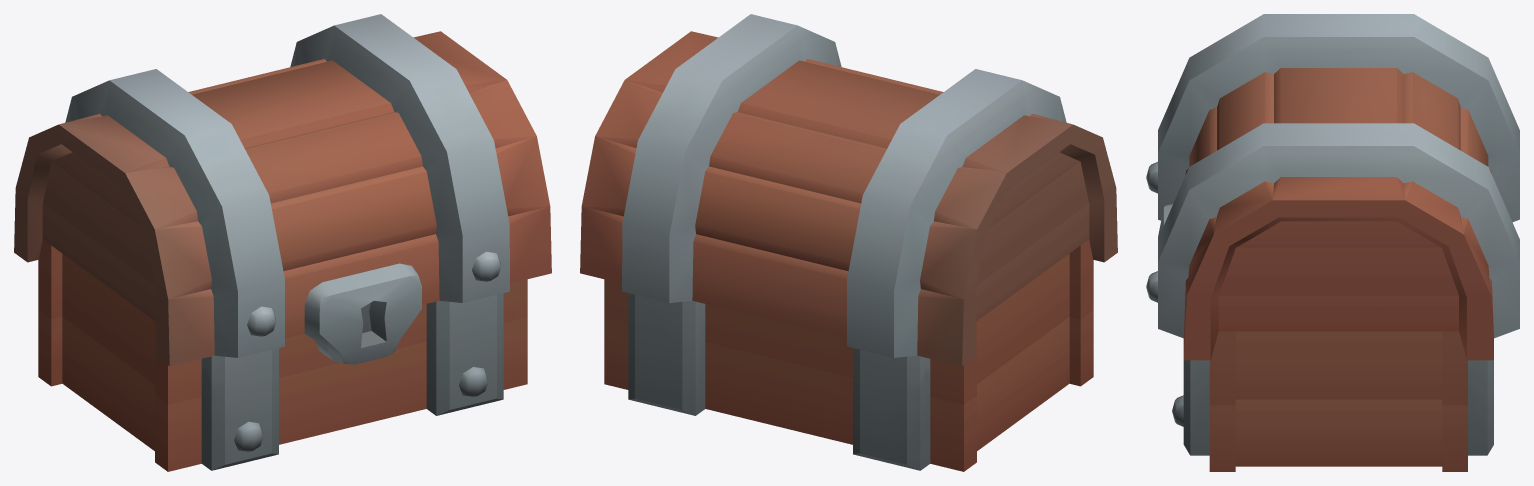
File: chest.glb
The picture shows the model from 3 angles, left to right: view 1: azimuth 30°, elevation 25°; view 2: azimuth 150°, elevation 25°; view 3: azimuth 270°, elevation 25°; orthographic projection.
Visible parts, largest first — view 1: chest_lid, Cube.11164; view 2: chest_lid, Cube.11164; view 3: chest_lid, Cube.11164.
Boxes of the visible parts, x1=… form: chest_lid: x1=14, y1=14, x2=551, y2=366; Cube.11164: x1=38, y1=239, x2=527, y2=471; chest_lid: x1=580, y1=14, x2=1117, y2=366; Cube.11164: x1=604, y1=239, x2=1093, y2=471; chest_lid: x1=1146, y1=14, x2=1519, y2=360; Cube.11164: x1=1172, y1=331, x2=1493, y2=471.
Bounding box in the file's own units: 1.7 × 1.3 × 1.45.
1 material, 1 textured.
